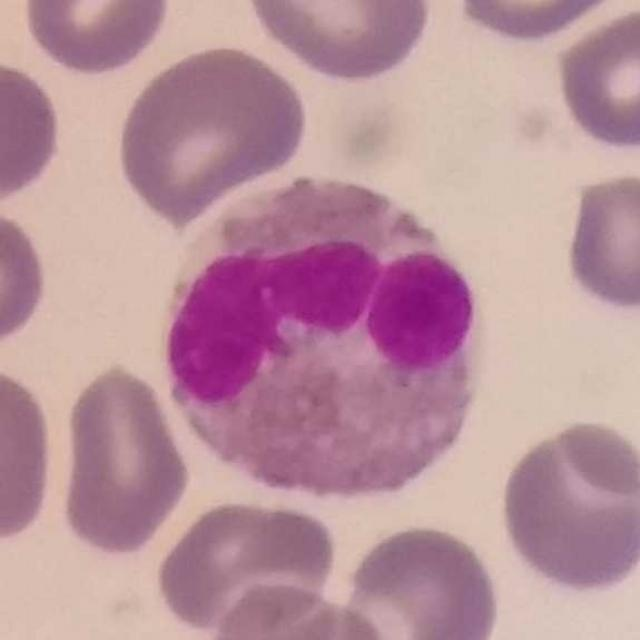Eosinophil: (162, 174, 484, 499)
RBC: (112, 39, 312, 225), (54, 358, 194, 561), (152, 494, 340, 638), (494, 415, 640, 599), (332, 518, 505, 640), (238, 0, 436, 86), (552, 3, 640, 154), (18, 0, 175, 79), (560, 168, 640, 318), (0, 359, 60, 550), (205, 580, 394, 640), (0, 54, 67, 210), (0, 200, 53, 356), (447, 0, 629, 45)
